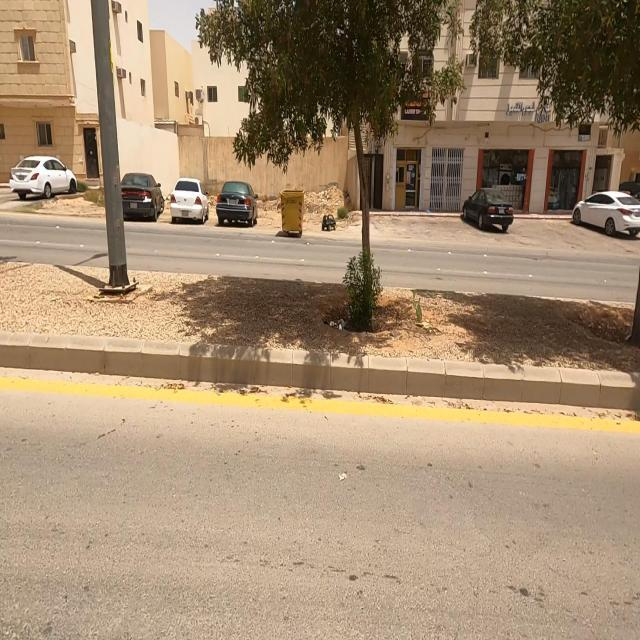debris: (302, 275, 362, 370)
